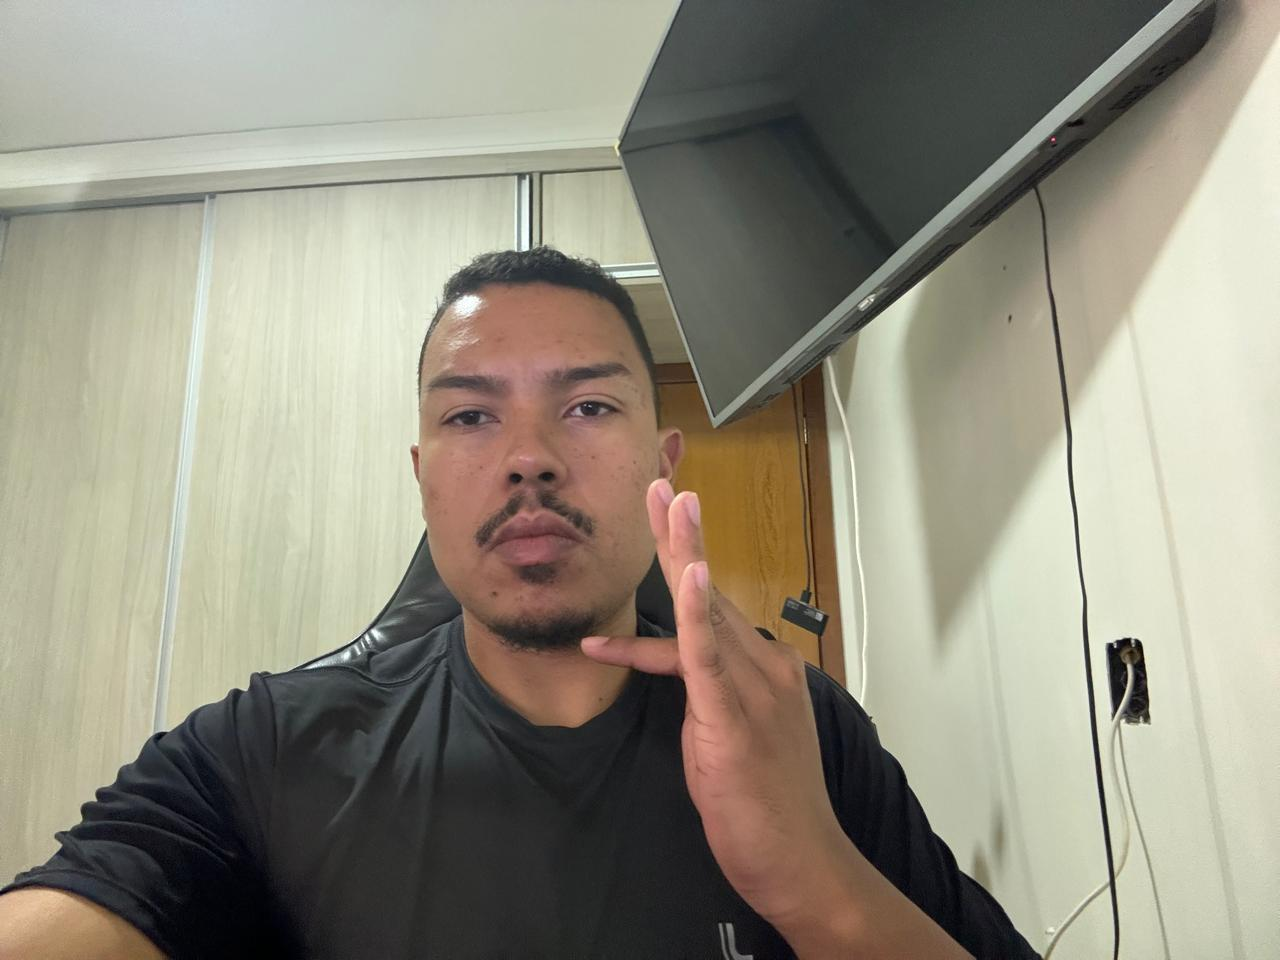f: (573, 469, 898, 933)
